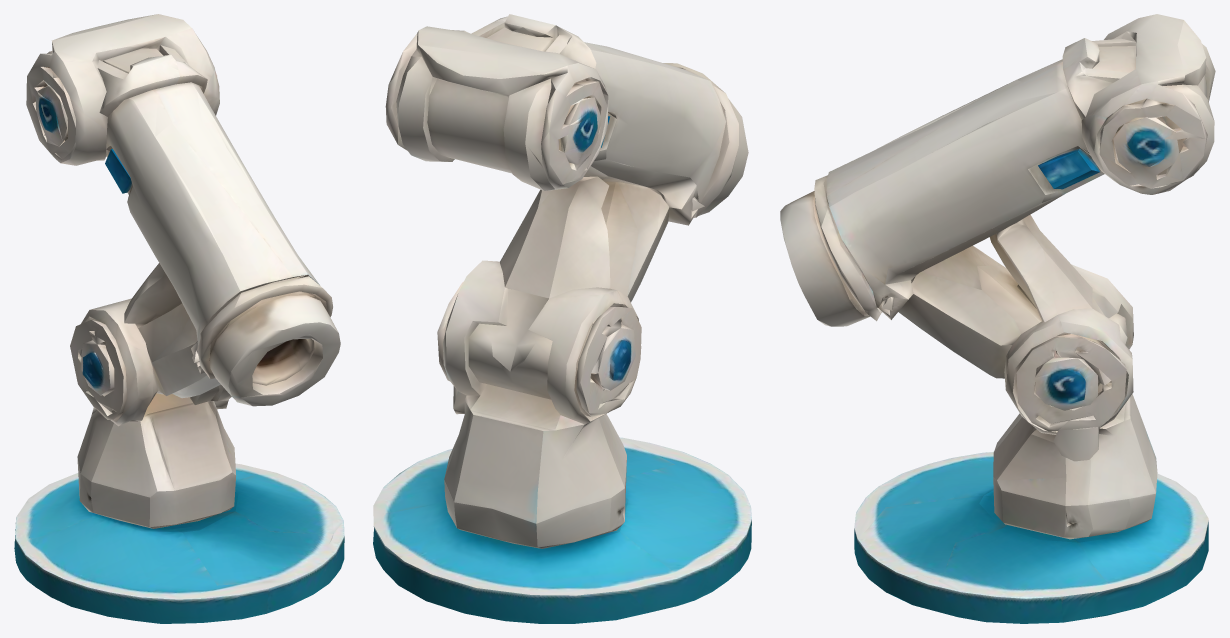
Rendered from m2DockingArm.glb.
3 views of the same model, side by side, from view 1: azimuth 30°, elevation 25°; view 2: azimuth 150°, elevation 25°; view 3: azimuth 270°, elevation 25° (orthographic). The views are drawn at different scales.
Visible parts, largest first — view 1: model; view 2: model; view 3: model.
Part boxes in pixels (left/top/right/bottom): model: left=14, top=14, right=344, bottom=623; model: left=373, top=14, right=751, bottom=623; model: left=780, top=14, right=1215, bottom=623.
Size of the model in its own units: 1.2 by 1.9 by 1.48.
Materials: 1 (1 with a texture image).
